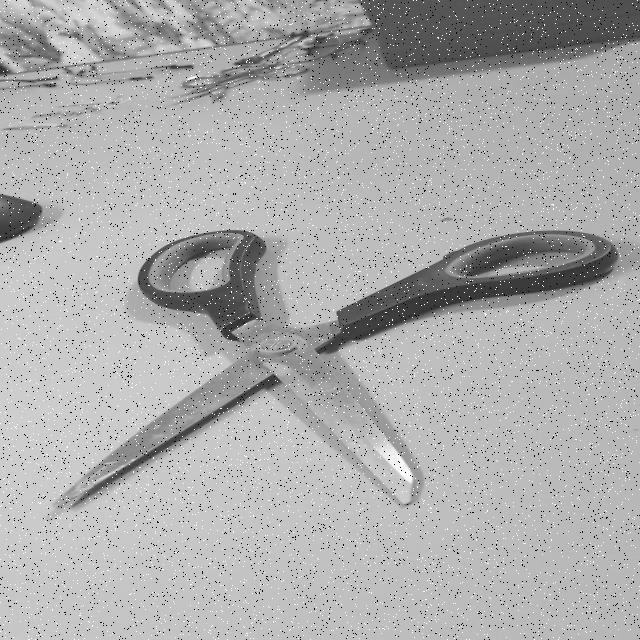scissors: (43, 223, 630, 516)
